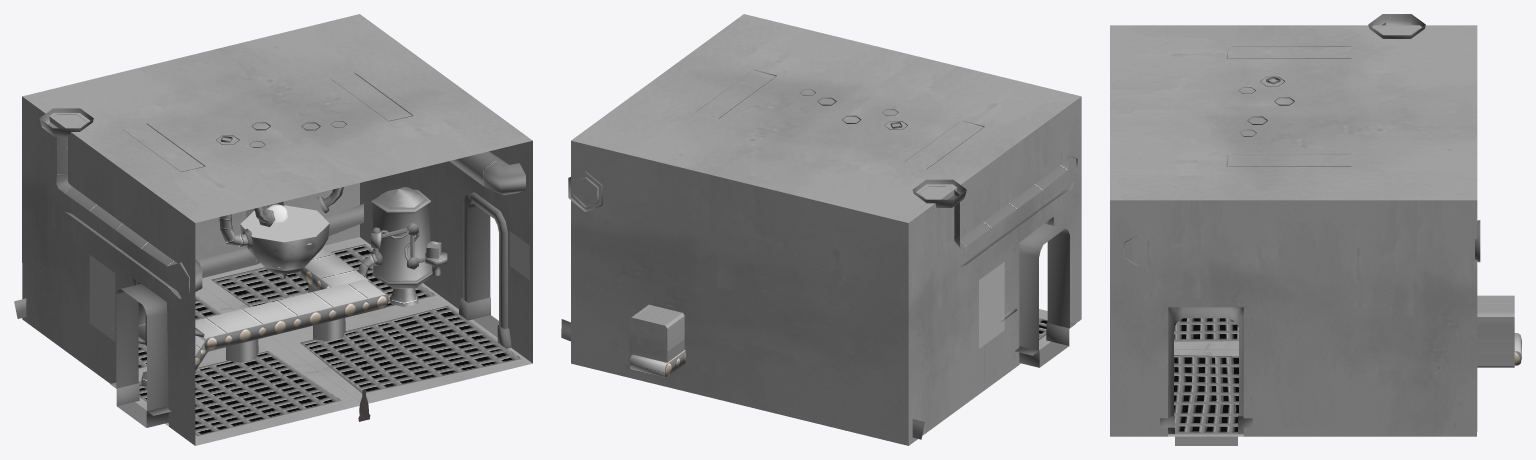
File: MSH_Nuka_room_L2_R1_optimized.fbx
The picture shows the model from 3 angles, left to right: view 1: azimuth 30°, elevation 25°; view 2: azimuth 150°, elevation 25°; view 3: azimuth 270°, elevation 25°; orthographic projection. The views are drawn at different scales.
Visible parts, largest first — view 1: lightmap0, lightmap1, lightmap-1; view 2: lightmap0, lightmap1, lightmap-1; view 3: lightmap0, lightmap1, lightmap-1.
Boxes of the visible parts, <box> form: lightmap0: <box>22,14,532,445</box>; lightmap1: <box>14,73,529,386</box>; lightmap-1: <box>116,203,498,427</box>; lightmap0: <box>571,14,1081,445</box>; lightmap1: <box>561,69,1077,439</box>; lightmap-1: <box>1019,223,1069,367</box>; lightmap0: <box>1110,25,1514,436</box>; lightmap1: <box>1124,14,1521,365</box>; lightmap-1: <box>1174,307,1238,445</box>.
Bounding box in the file's own units: 10.3 × 6.39 × 9.26.
